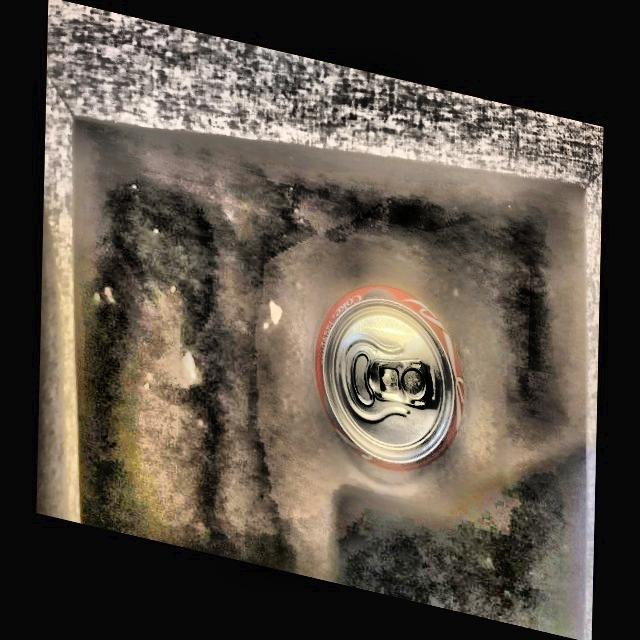coke-can: (312, 280, 461, 475)
